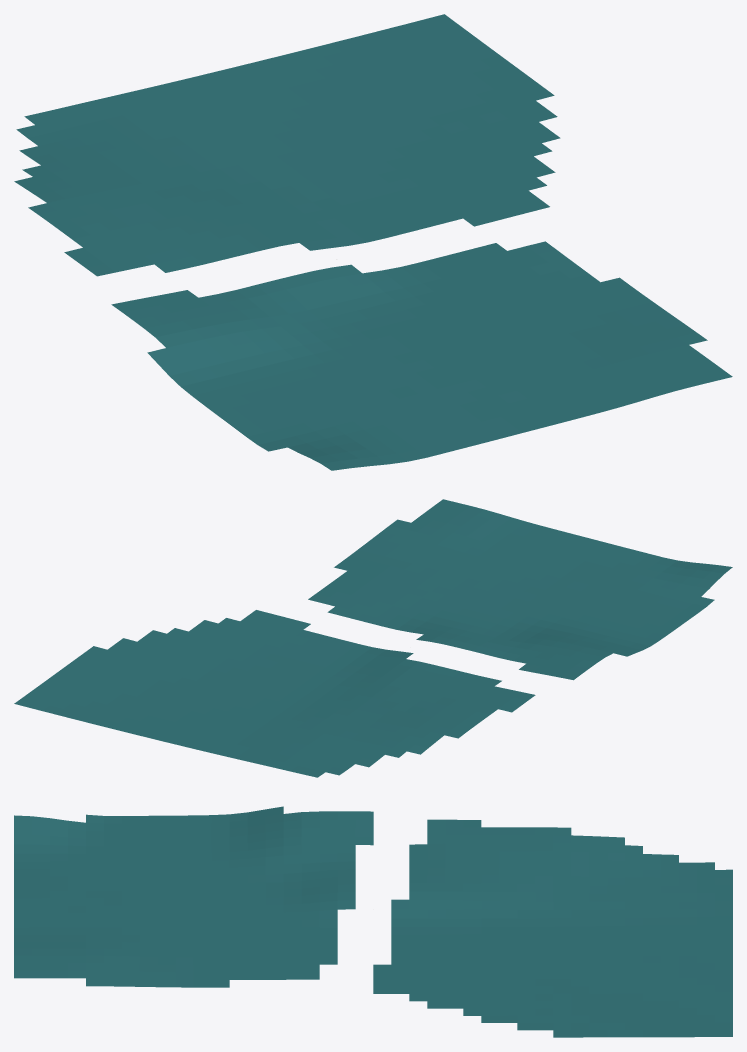
Rendered from spaans_water.glb.
3 views of the same model, one above another, from view 1: azimuth 30°, elevation 25°; view 2: azimuth 150°, elevation 25°; view 3: azimuth 270°, elevation 25° (orthographic). The views are drawn at different scales.
Parts seen in each view (by area): view 1: spaans_water_lod0; view 2: spaans_water_lod0; view 3: spaans_water_lod0.
Part boxes in pixels (left/top/right/bottom): spaans_water_lod0: left=14, top=14, right=732, bottom=470; spaans_water_lod0: left=14, top=499, right=732, bottom=777; spaans_water_lod0: left=14, top=806, right=732, bottom=1037.
Size of what is drawn, in the model's own units: 180 by 4.57 by 240.
